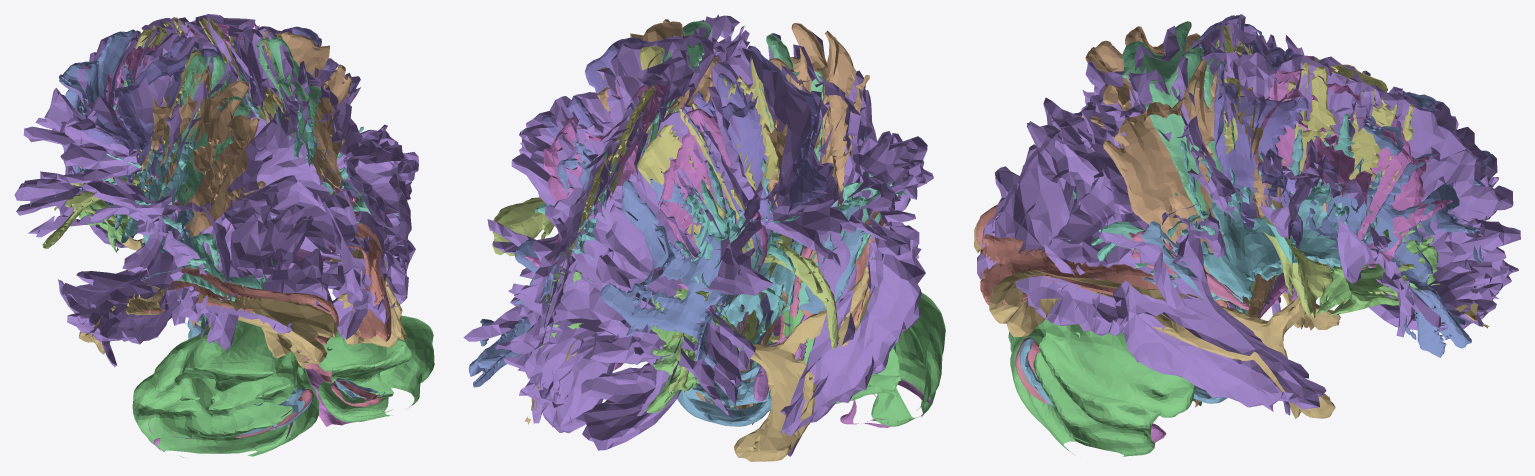
Rendered from tracts_hcp1065_proj.glb.
3 views of the same model, side by side, from view 1: azimuth 30°, elevation 25°; view 2: azimuth 150°, elevation 25°; view 3: azimuth 270°, elevation 25° (orthographic). The views are drawn at different scales.
Visible parts, largest first — view 1: Corpus callosum fibres, Cerebellar fibres L, Corticopontine tract, parietal L, Cerebellar fibres R, Anterior commissure fibres, Corticospinal tract L, Corticopontine tract, parietal R, Medial lemniscus L, Reticulospinal tract L, Optic radiation L, Corticostriatal tract, superior L, Medial lemniscus R (+15 smaller); view 2: Corpus callosum fibres, Reticulospinal tract L, Corticospinal tract L, Anterior commissure fibres, Corticopontine tract, parietal L, Cerebellar fibres L, Dentatorubrothalamic tract L, Corticopontine tract, frontal L, Corticostriatal tract, superior L, Reticulospinal tract R, Corticopontine tract, frontal R, Thalamic radiation, superior L (+16 smaller); view 3: Corpus callosum fibres, Cerebellar fibres R, Corticopontine tract, parietal R, Reticulospinal tract R, Corticostriatal tract, superior R, Corticopontine tract, frontal R, Anterior commissure fibres, Corticospinal tract R, Dentatorubrothalamic tract R, Optic radiation R, Medial lemniscus R, Corticostriatal tract, anterior R (+11 smaller).
Boxes of the visible parts, <box> form: Corpus callosum fibres: <box>14,14,418,367</box>; Cerebellar fibres L: <box>132,320,318,457</box>; Corticopontine tract, parietal L: <box>140,63,265,329</box>; Cerebellar fibres R: <box>318,315,434,422</box>; Anterior commissure fibres: <box>78,219,406,368</box>; Corticospinal tract L: <box>81,34,219,322</box>; Corticopontine tract, parietal R: <box>263,30,352,194</box>; Medial lemniscus L: <box>166,54,250,205</box>; Reticulospinal tract L: <box>55,29,147,206</box>; Optic radiation L: <box>130,267,338,344</box>; Corticostriatal tract, superior L: <box>110,86,195,251</box>; Medial lemniscus R: <box>255,37,320,167</box>; Corpus callosum fibres: <box>463,14,933,456</box>; Reticulospinal tract L: <box>600,168,735,373</box>; Corticospinal tract L: <box>682,45,827,405</box>; Anterior commissure fibres: <box>524,210,890,461</box>; Corticopontine tract, parietal L: <box>730,23,869,424</box>; Cerebellar fibres L: <box>784,292,945,426</box>; Dentatorubrothalamic tract L: <box>637,59,784,342</box>; Corticopontine tract, frontal L: <box>658,108,767,335</box>; Corticostriatal tract, superior L: <box>676,157,803,339</box>; Reticulospinal tract R: <box>468,139,600,387</box>; Corticopontine tract, frontal R: <box>524,78,724,404</box>; Thalamic radiation, superior L: <box>684,171,863,307</box>; Corpus callosum fibres: <box>977,14,1520,415</box>; Cerebellar fibres R: <box>1010,319,1195,456</box>; Corticopontine tract, parietal R: <box>1103,58,1283,407</box>; Reticulospinal tract R: <box>1305,116,1483,357</box>; Corticostriatal tract, superior R: <box>1187,129,1381,302</box>; Corticopontine tract, frontal R: <box>1245,69,1452,318</box>; Anterior commissure fibres: <box>974,223,1489,418</box>; Corticospinal tract R: <box>1214,59,1308,318</box>; Dentatorubrothalamic tract R: <box>1223,62,1413,211</box>; Optic radiation R: <box>980,234,1227,308</box>; Medial lemniscus R: <box>1146,51,1242,405</box>; Corticostriatal tract, anterior R: <box>1317,220,1440,315</box>.
Bounding box in the file's own units: 6.07 × 6.41 × 8.76.
